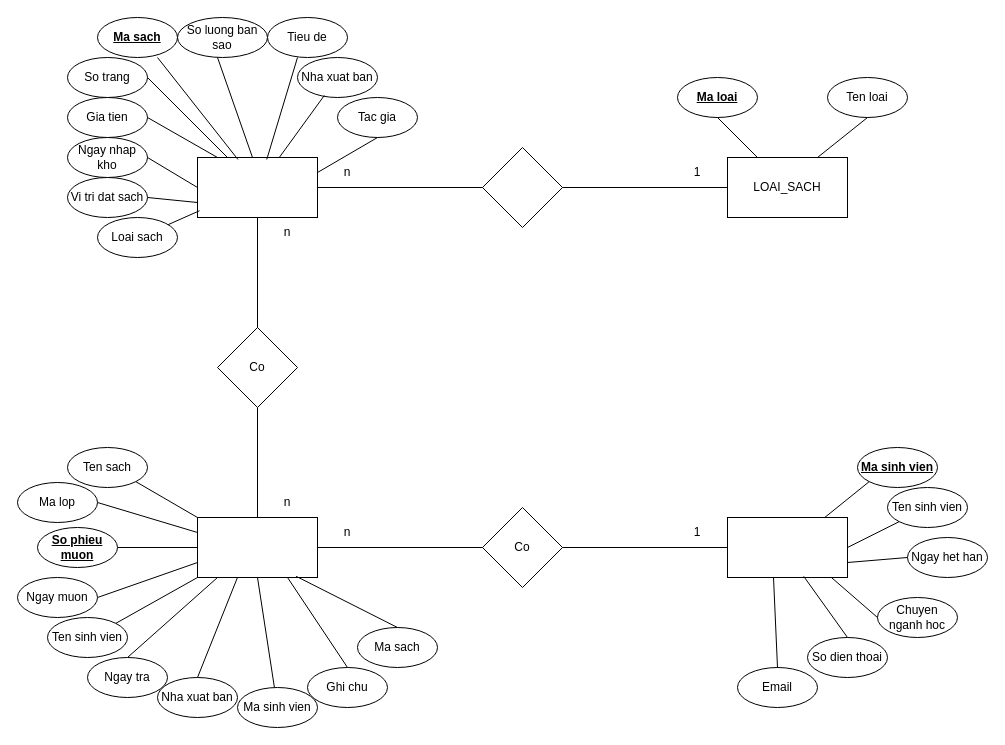
The diagram is 1005 pixels wide and 745 high, and some of its shapes have lost their labels. The centre of each missing label's shape, as x and y in pixels:
"PHIEU_MUON" goes at point 257,547.
"SACH" goes at point 257,187.
"THE_SINH_VIEN" goes at point 787,547.
"Thuoc" goes at point 522,187.
